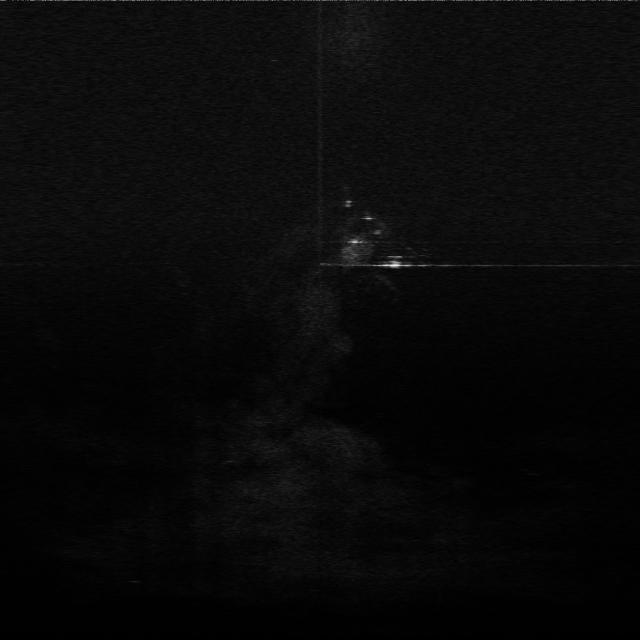rov: (383, 252, 407, 269)
